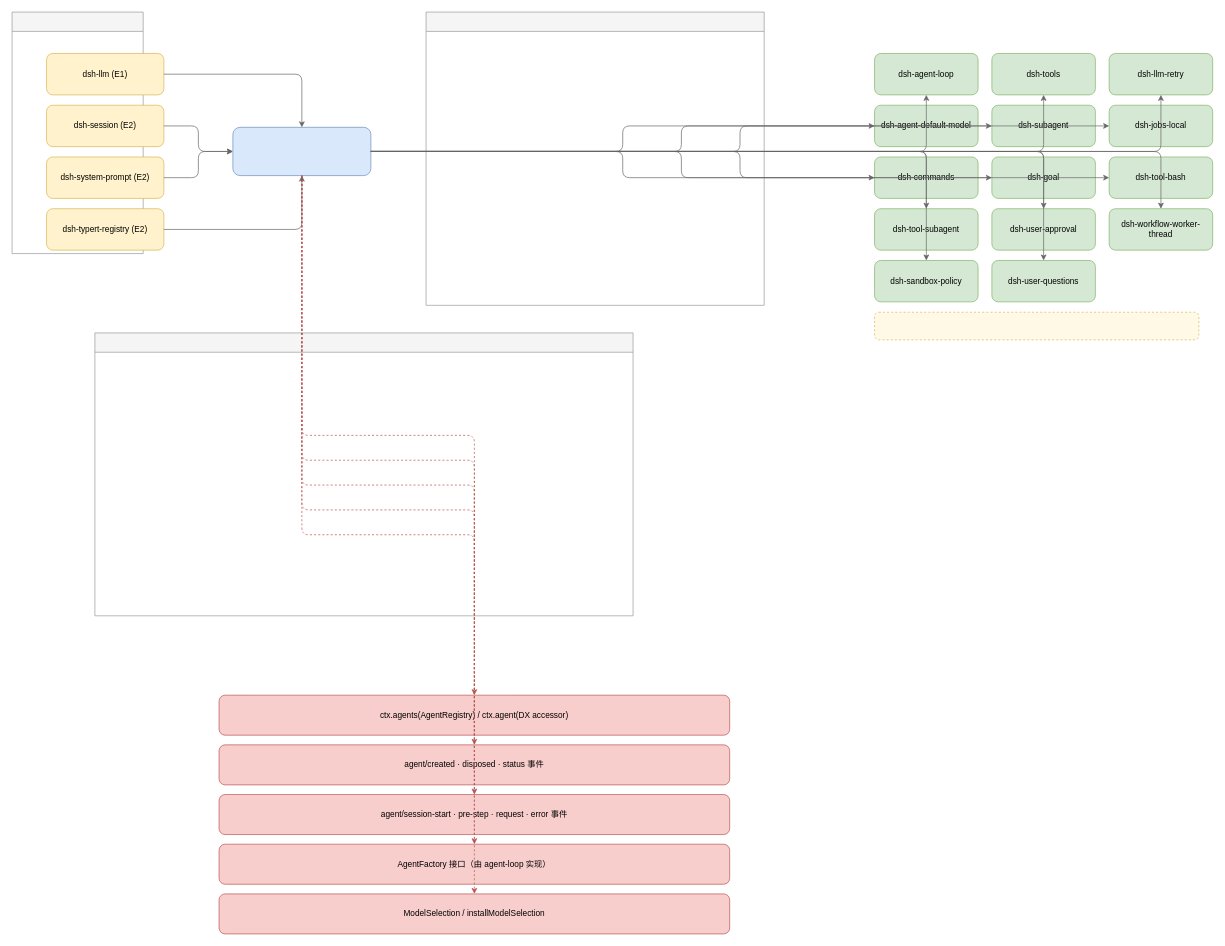
This 1225x946 diagram has some shape labels left out. The shapes that lost their labels are listed below. From the top down, each one's box as (x1, y1, x2, y2) in pixels, then its label:
(11, 11, 143, 254): 上游依赖 upstream (E1/E2/E3)
(232, 127, 371, 176): @deepseek-ai/dsh-agent
(425, 11, 764, 305): 下游被依赖 dependents
(874, 312, 1199, 340): … 等共 15 个下游
(94, 332, 633, 616): 提供服务 provides（关键项）
